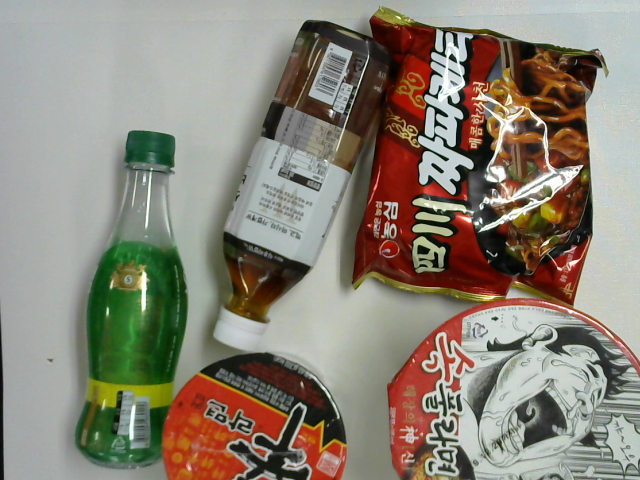Hejangpul: (379, 297, 640, 479)
Post-meal_recipe_W_tea_500ml: (202, 18, 395, 355)
Seagram_Lemon_Carbonated_Water: (71, 128, 190, 469)
Sichuan_Chapaghetti: (351, 7, 600, 310)
Sinramen_small: (164, 350, 347, 480)
